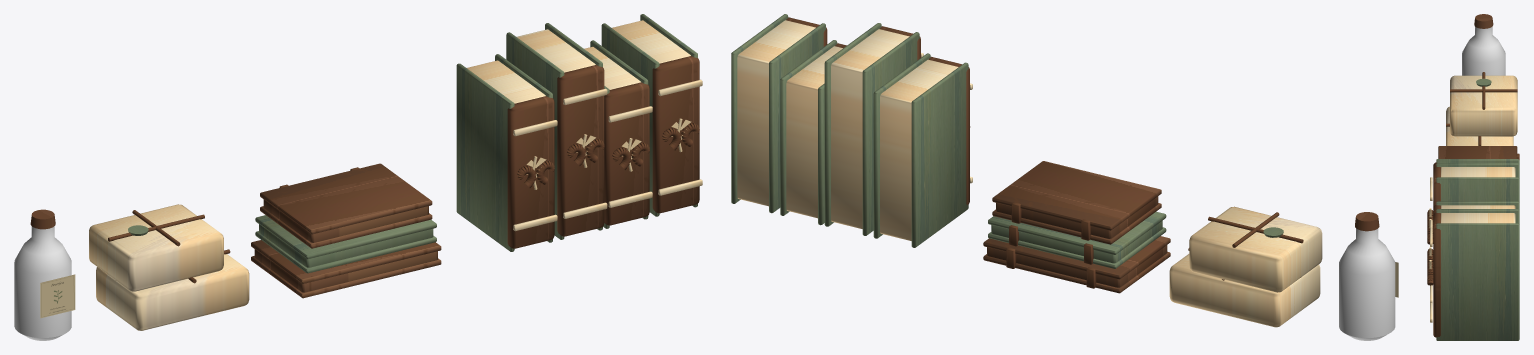
The model's file is CM_IL04_WorkingCollection1.fbx.
3 renders of one model, left to right at view 1: azimuth 30°, elevation 25°; view 2: azimuth 150°, elevation 25°; view 3: azimuth 270°, elevation 25°, orthographic. The views are drawn at different scales.
Parts seen in each view (by area): view 1: CM_IL04_WorkingCollection1; view 2: CM_IL04_WorkingCollection1; view 3: CM_IL04_WorkingCollection1.
Part boxes in pixels (x1,y1,x2,y2): CM_IL04_WorkingCollection1: (14, 14, 702, 340); CM_IL04_WorkingCollection1: (731, 14, 1398, 340); CM_IL04_WorkingCollection1: (1427, 14, 1519, 340).
Size of the model in its own units: 1.43 by 0.355 by 0.232.
